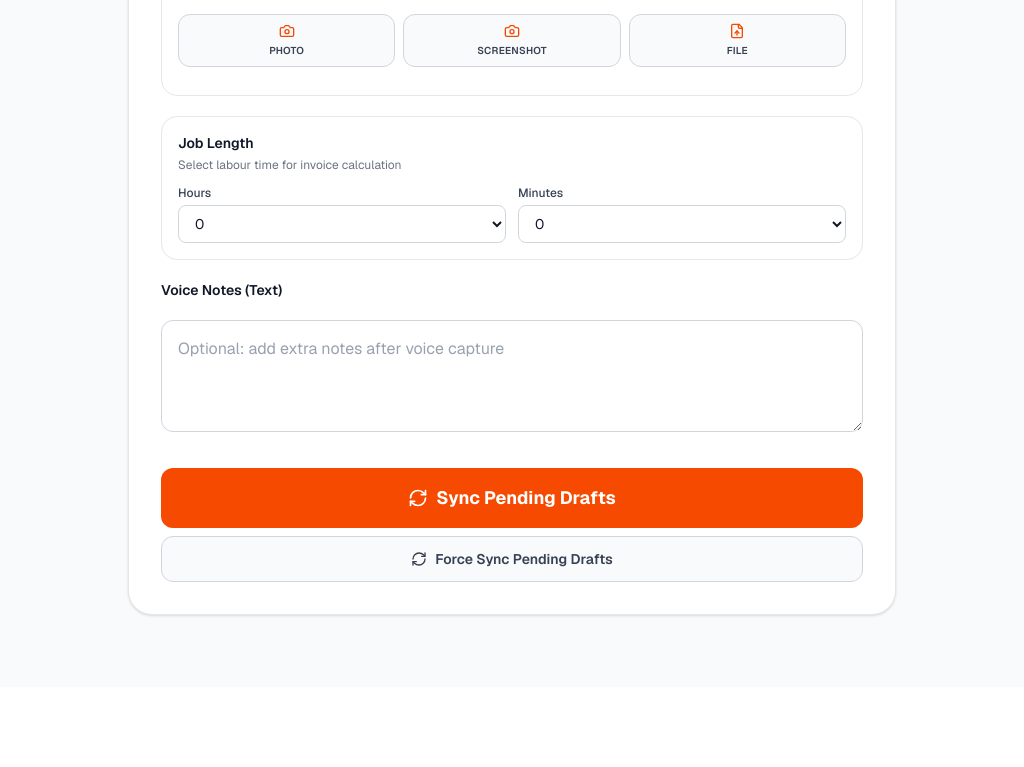
Test case: Capture page logic › switches to online sync mode and executes force sync
(page scrolled)
Click the button "Sync Pending Drafts" at (512, 498), box [161, 468, 863, 528]
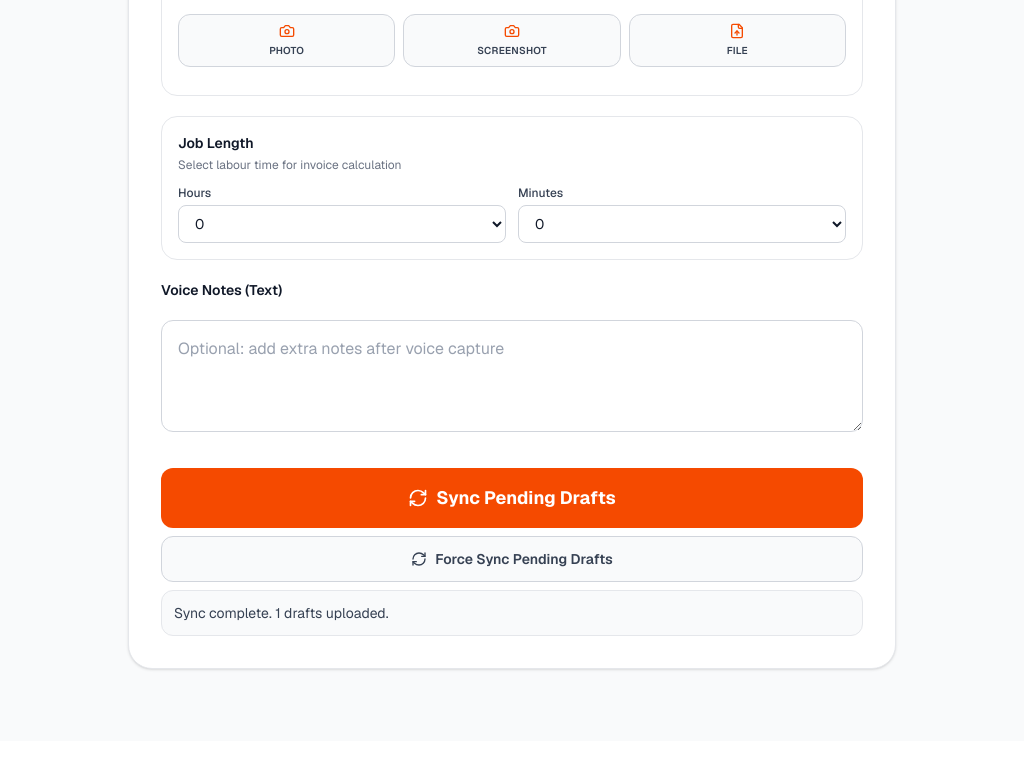
Expected: the text "Sync complete. 1 drafts uploaded." is shown, [161, 590, 863, 636]
